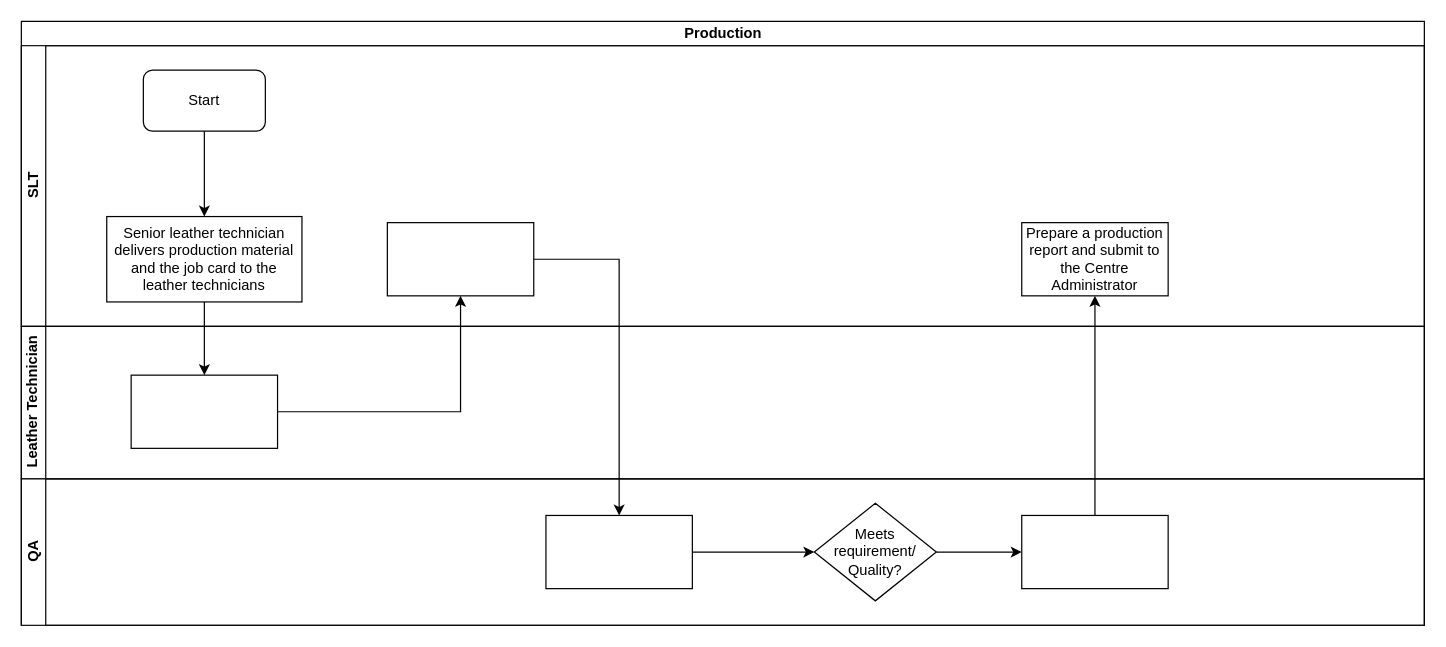
Some shapes in this 1446 by 647 pixel diagram are drawn without their labels. Here are the shapes that lost their labels. From the top down, the centre of each, then its label:
At point 460,258: "Once finished, notify QA to inspect".
At point 204,411: "Production of leather products according to order".
At point 618,551: "Perform quality inspection of finished products".
At point 1094,551: "Submit to finished products store and update inventory".
